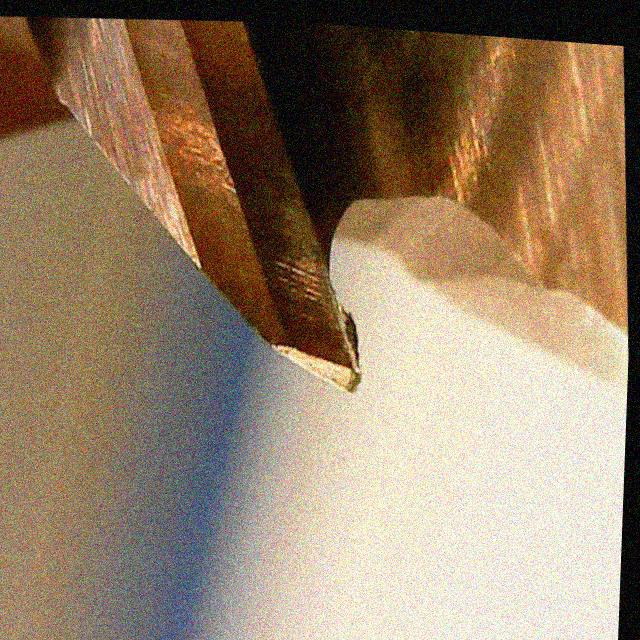Tool-wear-class-1: (211, 144, 380, 411)
